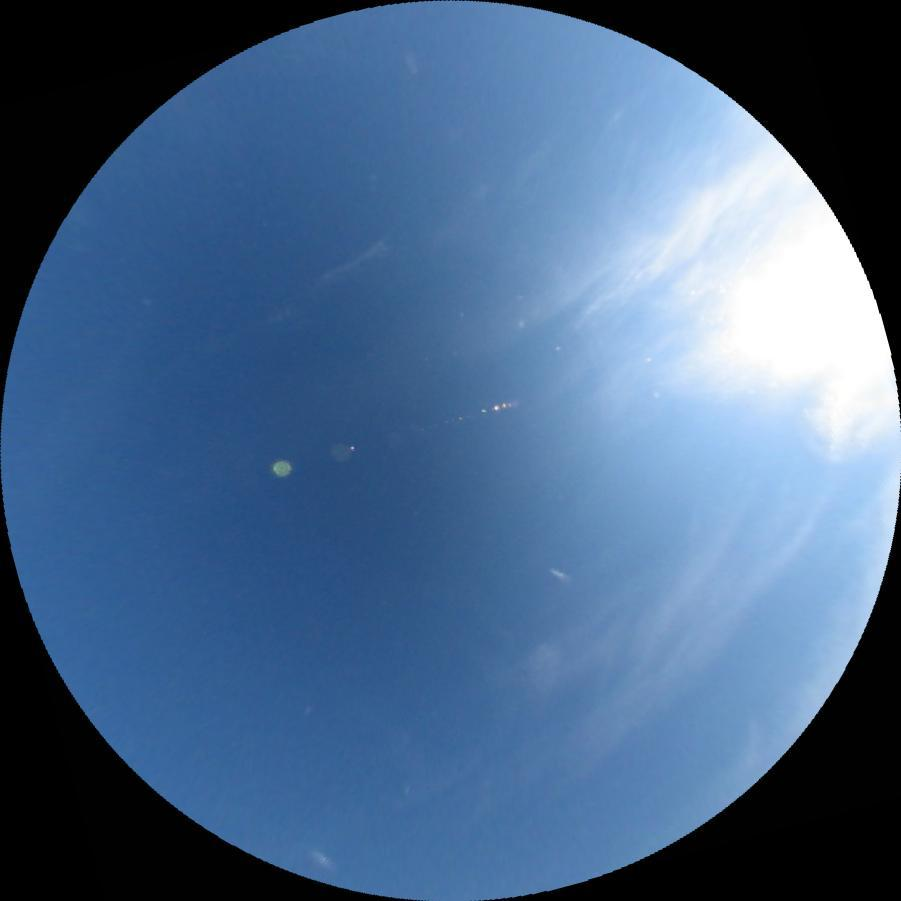sun: (721, 221, 898, 392)
unknow: (550, 568, 567, 579)
